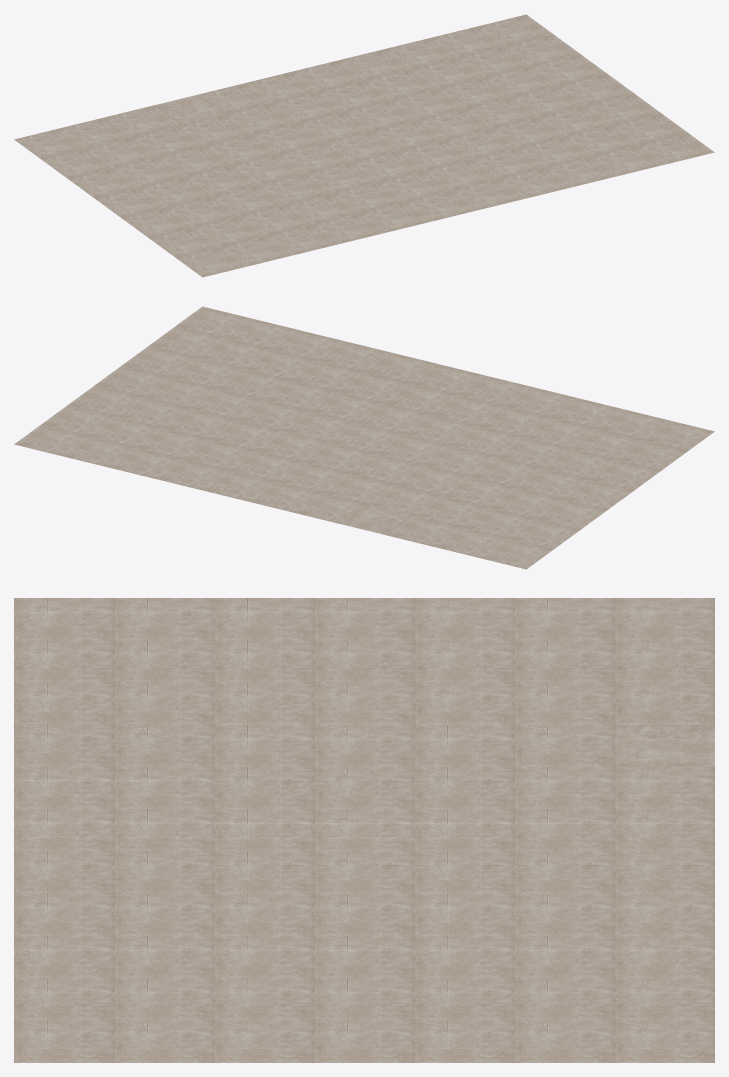
The model's file is Floor.fbx.
3 renders of one model, top to bottom at view 1: azimuth 30°, elevation 25°; view 2: azimuth 150°, elevation 25°; view 3: azimuth 270°, elevation 25°, orthographic. The views are drawn at different scales.
Visible parts, largest first — view 1: M_Floor7_MedievalDiningRoom_FinalScene2:blinn5_0; view 2: M_Floor7_MedievalDiningRoom_FinalScene2:blinn5_0; view 3: M_Floor7_MedievalDiningRoom_FinalScene2:blinn5_0.
Boxes of the visible parts, box(x1,y1,x2,y2) form: M_Floor7_MedievalDiningRoom_FinalScene2:blinn5_0: box(14, 14, 714, 277); M_Floor7_MedievalDiningRoom_FinalScene2:blinn5_0: box(14, 306, 714, 569); M_Floor7_MedievalDiningRoom_FinalScene2:blinn5_0: box(14, 598, 714, 1062).
Bounding box in the file's own units: 396 × 4.11e-05 × 252.
Materials: 1 (1 with a texture image).
